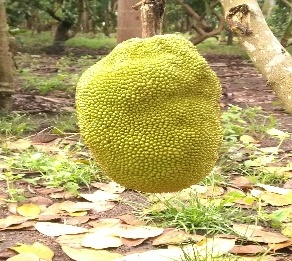Mit: (72, 31, 221, 188)
